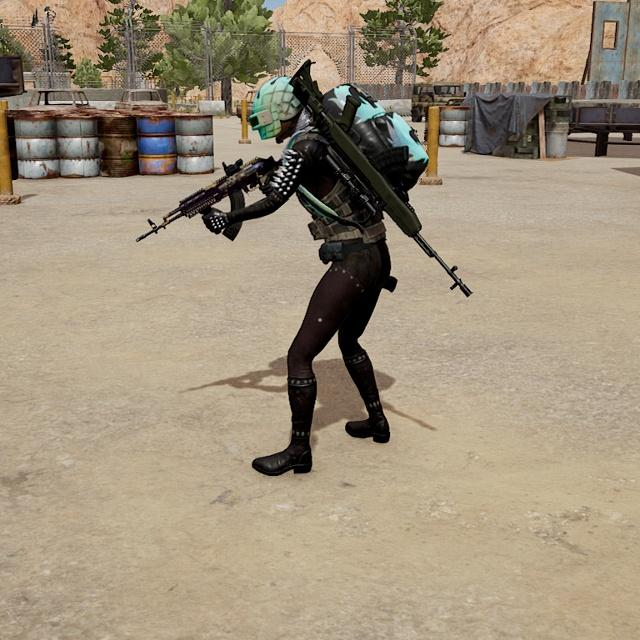head: (244, 69, 319, 146)
people: (231, 64, 405, 485)
